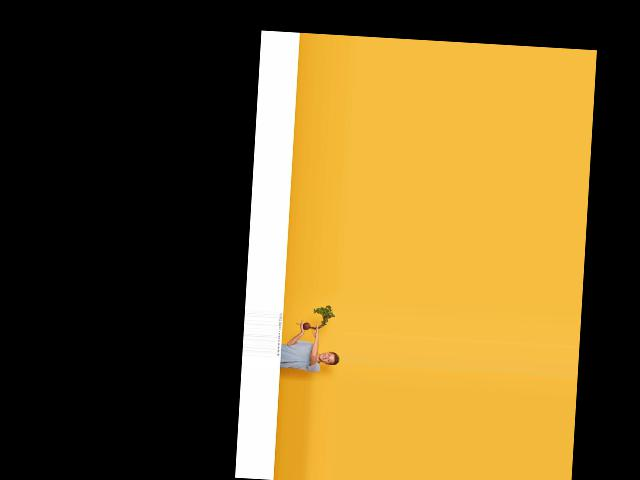beet: (295, 303, 335, 331)
